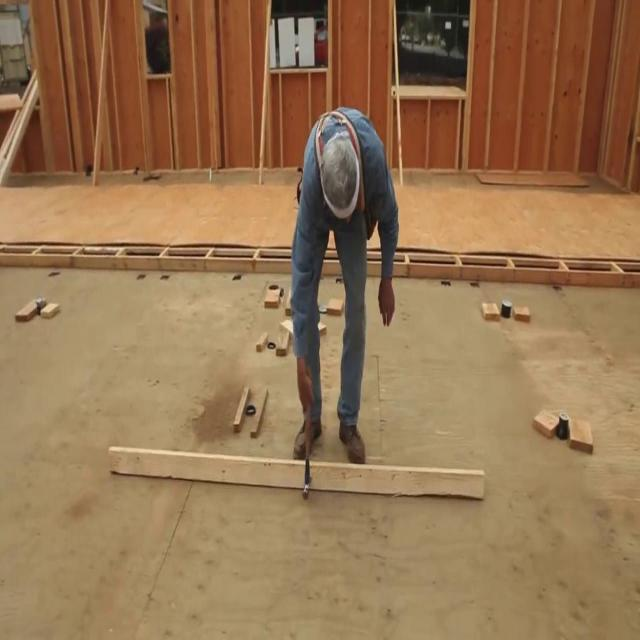hammer: (303, 416, 311, 500)
